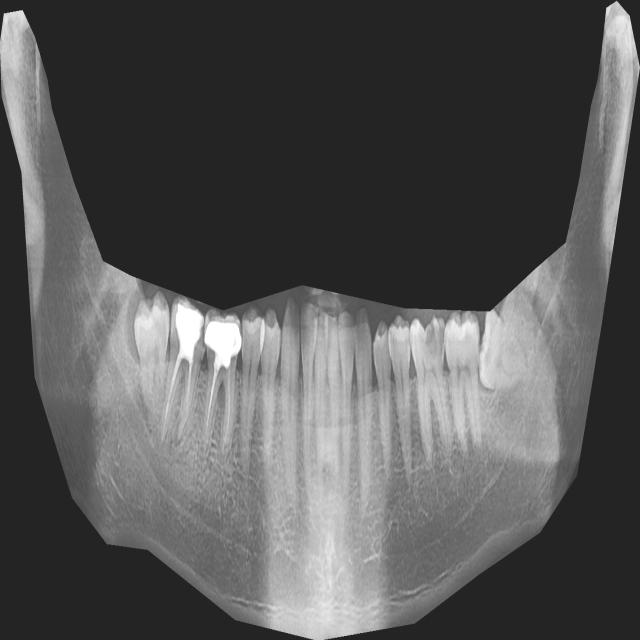mandibula: (0, 1, 640, 640)
